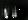person: (4, 8, 10, 20), (13, 7, 17, 19)
